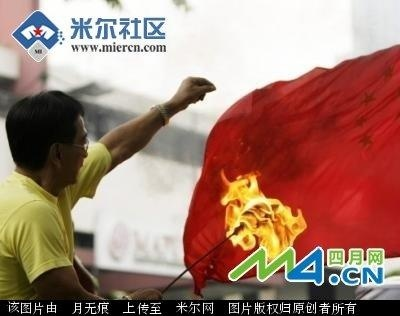fire: (219, 169, 308, 254)
